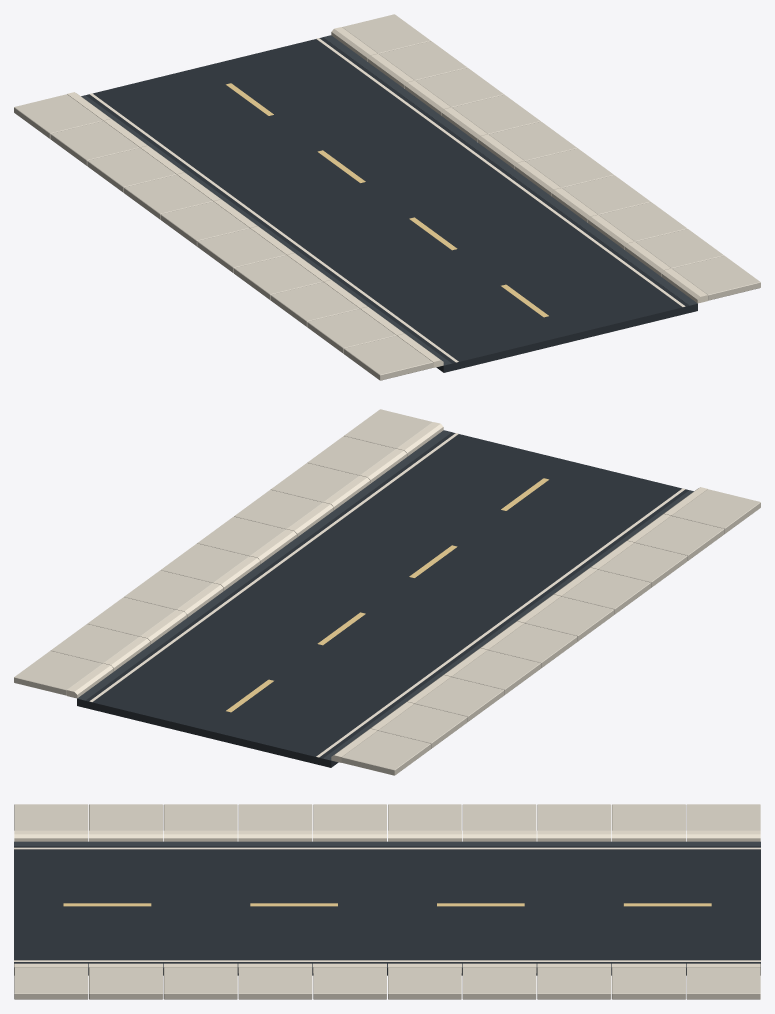
The model's file is road_straight.glb.
The picture shows the model from 3 angles, top to bottom: view 1: azimuth 30°, elevation 25°; view 2: azimuth 150°, elevation 25°; view 3: azimuth 270°, elevation 25°; orthographic projection.
Parts seen in each view (by area): view 1: RoadMesh; view 2: RoadMesh; view 3: RoadMesh.
Boxes of the visible parts, <box> form: RoadMesh: <box>14,14,760,380</box>; RoadMesh: <box>14,409,760,775</box>; RoadMesh: <box>14,804,760,999</box>.
Bounding box in the file's own units: 12 × 0.4 × 20.
